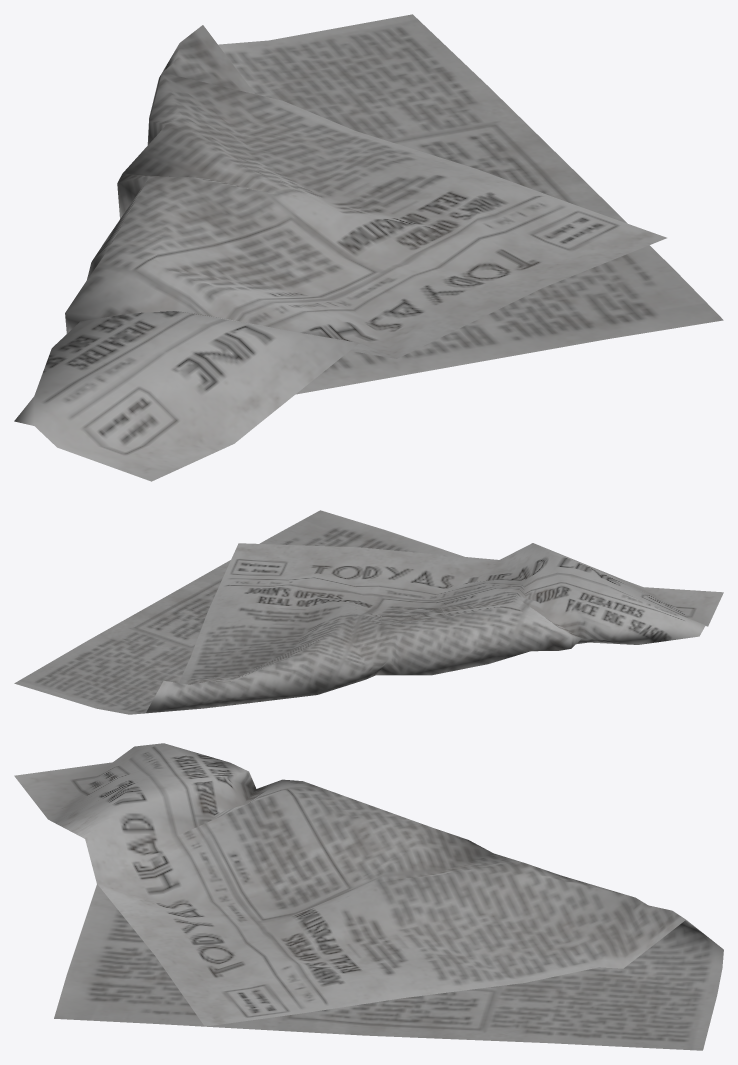
Rendered from SM_Small_Trash_NewsPaper_05.FBX.
3 views of the same model, one above another, from view 1: azimuth 30°, elevation 25°; view 2: azimuth 150°, elevation 25°; view 3: azimuth 270°, elevation 25° (orthographic). The views are drawn at different scales.
Parts seen in each view (by area): view 1: SM_Small_Trash_NewsPaper_05_LOD0; view 2: SM_Small_Trash_NewsPaper_05_LOD0; view 3: SM_Small_Trash_NewsPaper_05_LOD0.
Boxes of the visible parts, x1=… form: SM_Small_Trash_NewsPaper_05_LOD0: x1=14, y1=14, x2=723, y2=481; SM_Small_Trash_NewsPaper_05_LOD0: x1=14, y1=510, x2=723, y2=714; SM_Small_Trash_NewsPaper_05_LOD0: x1=14, y1=743, x2=723, y2=1050.
Size of what is drawn, in the model's own units: 23.88 by 24.36 by 2.01.
